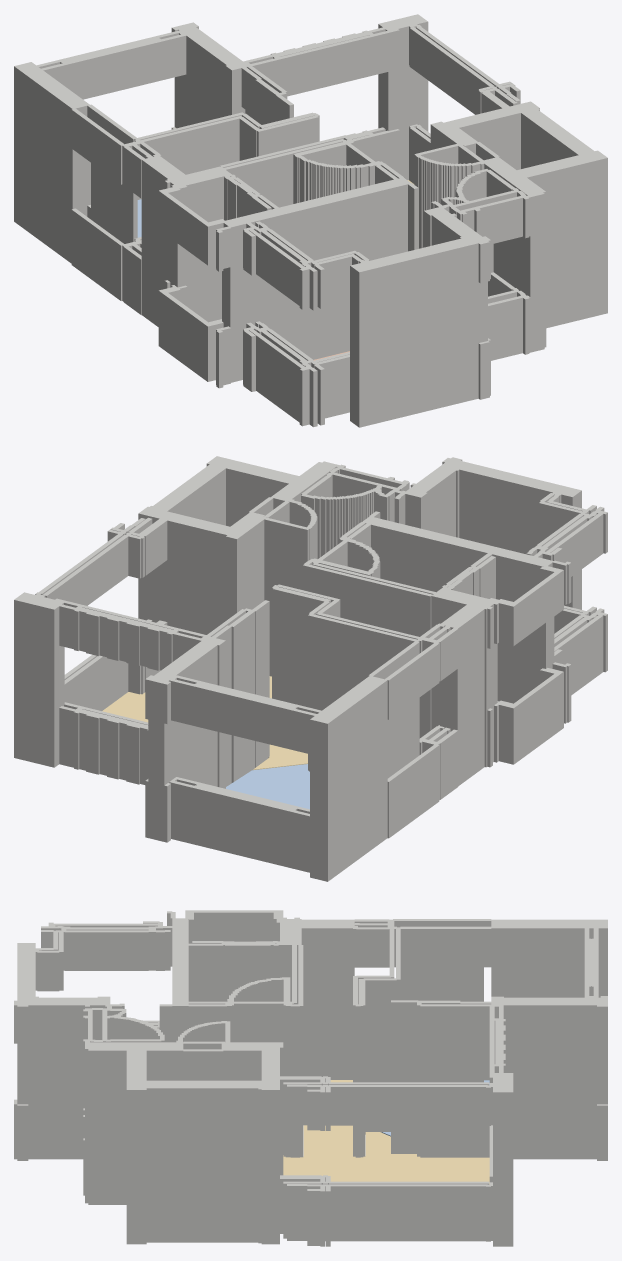
3 views of the same model, one above another, from view 1: azimuth 30°, elevation 25°; view 2: azimuth 150°, elevation 25°; view 3: azimuth 270°, elevation 25° (orthographic). The views are drawn at different scales.
Parts seen in each view (by area): view 1: walls; view 2: walls, room:bedroom:4, room:living:3; view 3: walls, room:living:3.
Part boxes in pixels (x1,y1,x2,y2): walls: (14, 14, 607, 427); walls: (14, 456, 607, 881); room:bedroom:4: (226, 764, 309, 809); room:living:3: (102, 676, 307, 770); walls: (14, 910, 607, 1246); room:living:3: (283, 1080, 489, 1184).
Bounding box in the file's own units: 7.08 × 2.8 × 9.77.
